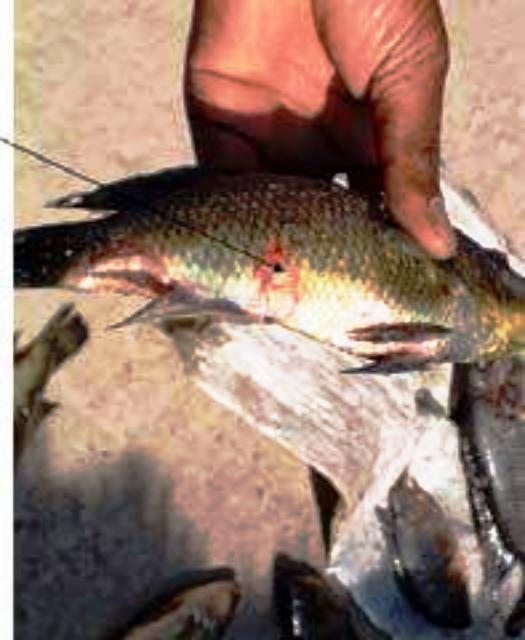Epizootic Ulcerative Syndrome -EUS-: (16, 168, 523, 365)
